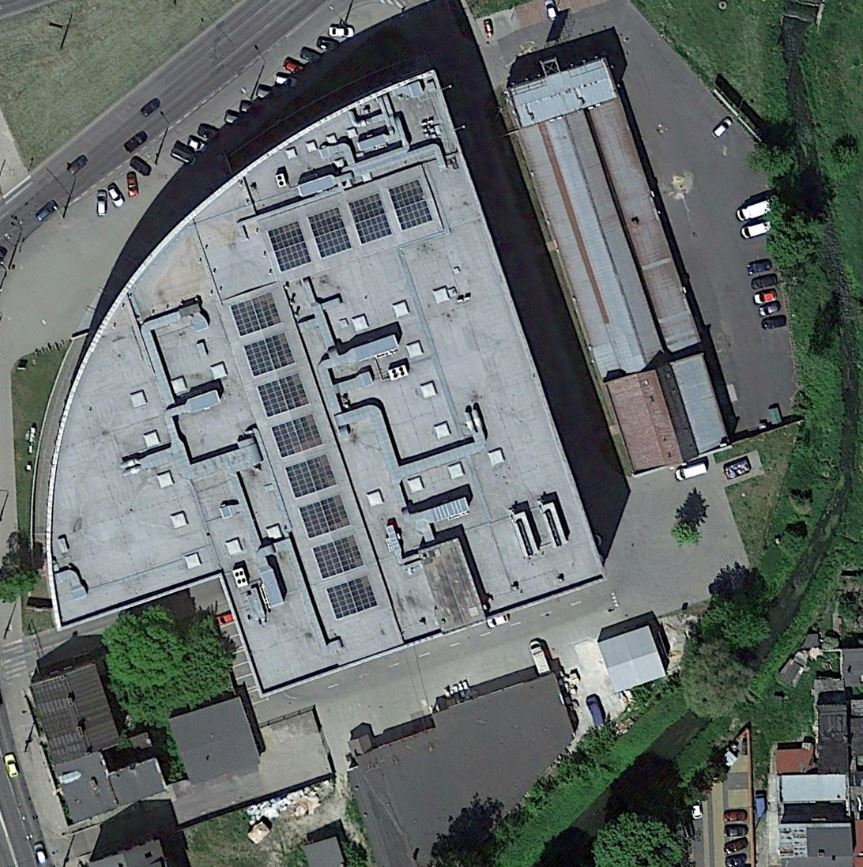shopping_center: (29, 60, 613, 709), (499, 39, 771, 484)
